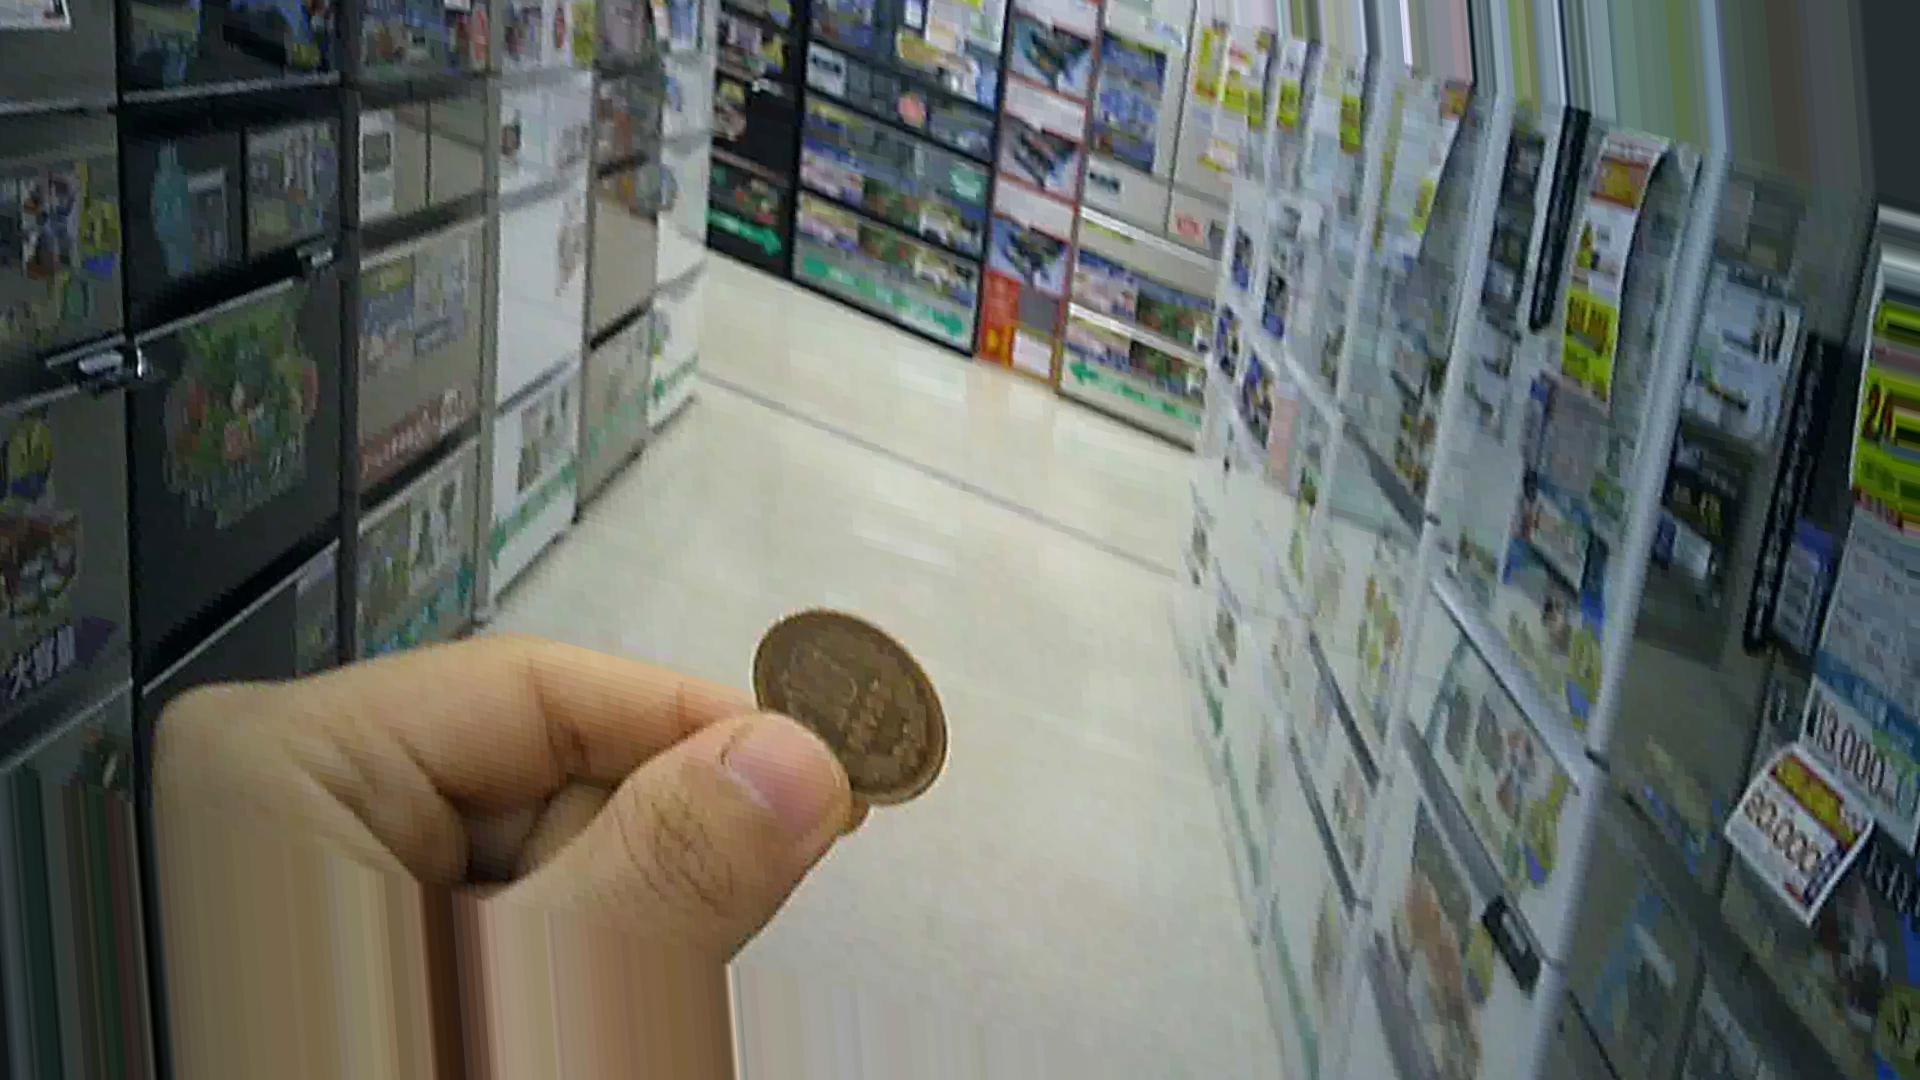10 Yen: (750, 593, 982, 818)
